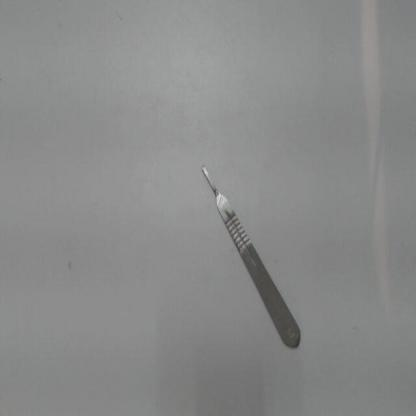No.3 BP Handle: (188, 146, 310, 360)
